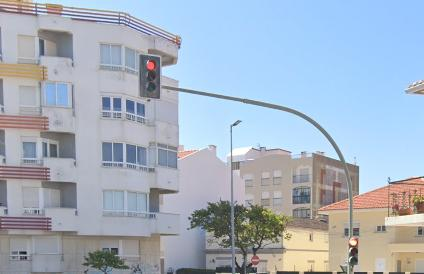red_light: (139, 53, 162, 101), (349, 238, 359, 265)
